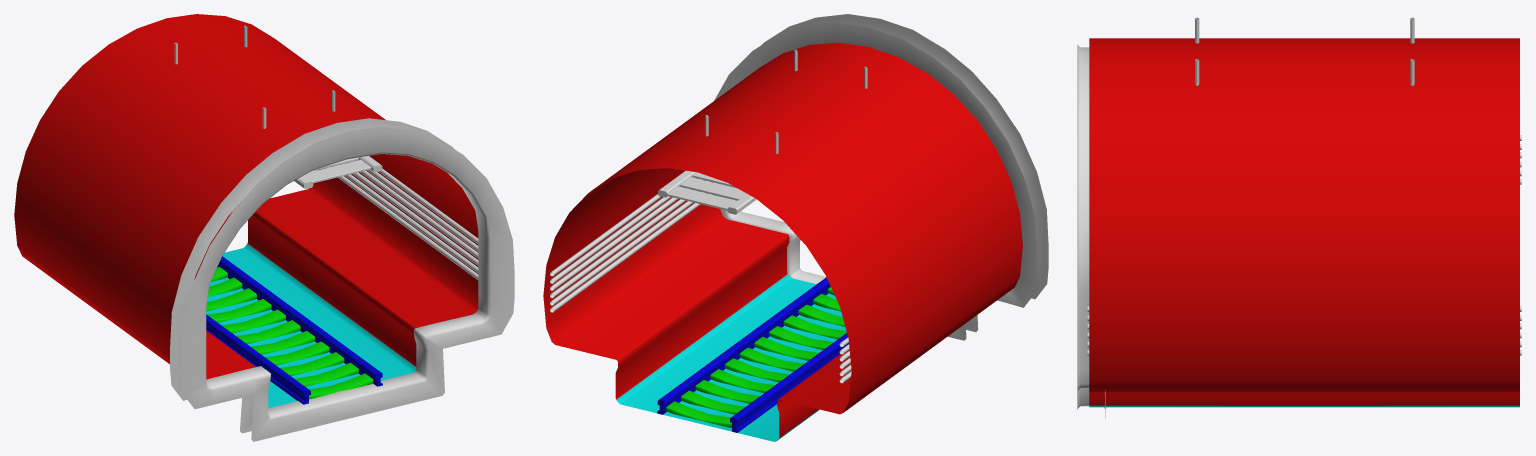
File: tunnel_str_new.fbx
The picture shows the model from 3 angles, left to right: view 1: azimuth 30°, elevation 25°; view 2: azimuth 150°, elevation 25°; view 3: azimuth 270°, elevation 25°; orthographic projection. The views are drawn at different scales.
Visible parts, largest first — view 1: tunnel_body_low, tunnel_joint_low, tunnel_track_low, tunnel_bars_low, tunnel_top_low; view 2: tunnel_body_low, tunnel_joint_low, tunnel_track_low, tunnel_bars_low, tunnel_top_low; view 3: tunnel_body_low, tunnel_joint_low, tunnel_top_low.
Part boxes in pixels (x1,y1,x2,y2): tunnel_body_low: (14, 14, 478, 407); tunnel_joint_low: (170, 118, 514, 441); tunnel_track_low: (206, 256, 382, 404); tunnel_bars_low: (326, 160, 478, 279); tunnel_top_low: (174, 25, 382, 189); tunnel_body_low: (543, 42, 1022, 441); tunnel_joint_low: (714, 14, 1048, 340); tunnel_track_low: (657, 277, 848, 432); tunnel_bars_low: (550, 177, 851, 383); tunnel_top_low: (658, 49, 867, 214); tunnel_body_low: (1089, 38, 1519, 407); tunnel_joint_low: (1077, 44, 1105, 418); tunnel_top_low: (1195, 17, 1414, 85).
Size of the model in its own units: 655 by 540 by 619.
